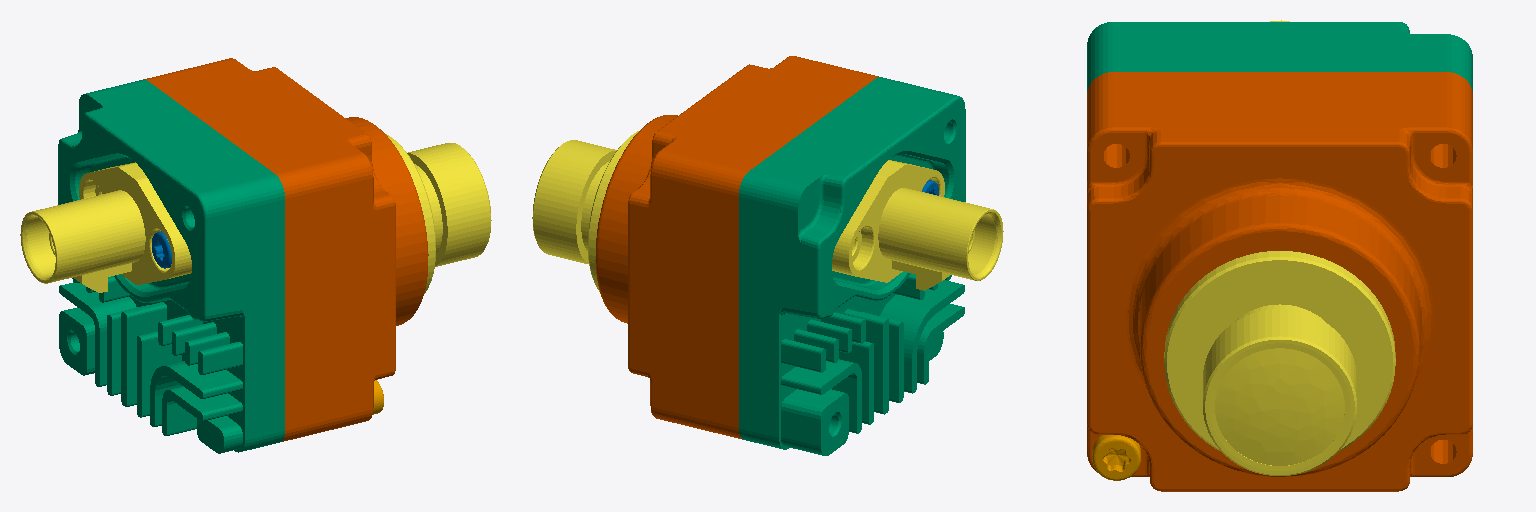
The robot description file, URDF, robot "SG2_AR0233C_5200_G2A_H100F1A":
<?xml version="1.0"?>
<!-- Generated by usd2urdf.py from SG2-AR0233C-5200-G2A-H100F1A.calibrated.acceptance.usd -->
<!-- metersPerUnit=0.01 upAxis=Z -->
<robot name="SG2_AR0233C_5200_G2A_H100F1A">
  <link name="base_link">
  </link>
  <link name="Root">
  </link>
  <link name="SG2_AR0233C_5200_G2A_H100F1A">
  </link>
  <link name="lens">
    <visual>
      <origin xyz="0 0 0" rpy="0 0 0"/>
      <geometry>
        <mesh filename="meshes/Mesh.stl"/>
      </geometry>
    </visual>
    <collision>
      <origin xyz="0 0 0" rpy="0 0 0"/>
      <geometry>
        <mesh filename="meshes/Mesh.stl"/>
      </geometry>
    </collision>
    <inertial>
      <origin xyz="0 0 0" rpy="0 0 0"/>
      <mass value="0.15"/>
      <inertia ixx="0.000810000064" ixy="0" ixz="0" iyy="0.000811431682" iyz="0" izz="0.000811431682"/>
    </inertial>
  </link>
  <link name="SG2_AR0233C_5200_G2A_H100F1A_1">
  </link>
  <link name="top">
    <visual>
      <origin xyz="0 0 0" rpy="0 0 0"/>
      <geometry>
        <mesh filename="meshes/Mesh_1.stl"/>
      </geometry>
    </visual>
    <collision>
      <origin xyz="0 0 0" rpy="0 0 0"/>
      <geometry>
        <mesh filename="meshes/Mesh_1.stl"/>
      </geometry>
    </collision>
    <inertial>
      <origin xyz="0 0 0" rpy="0 0 0"/>
      <mass value="0.15"/>
      <inertia ixx="0.0015966629" ixy="0" ixz="0" iyy="0.00159666335" iyz="0" izz="0.00224999973"/>
    </inertial>
  </link>
  <link name="screw">
    <visual>
      <origin xyz="0 0 0" rpy="0 0 0"/>
      <geometry>
        <mesh filename="meshes/Mesh_2.stl"/>
      </geometry>
    </visual>
    <collision>
      <origin xyz="0 0 0" rpy="0 0 0"/>
      <geometry>
        <mesh filename="meshes/Mesh_2.stl"/>
      </geometry>
    </collision>
    <inertial>
      <origin xyz="0 0 0" rpy="0 0 0"/>
      <mass value="0.15"/>
      <inertia ixx="0.000194591302" ixy="0" ixz="0" iyy="0.000318453528" iyz="0" izz="0.000361783971"/>
    </inertial>
  </link>
  <link name="screw_01">
    <visual>
      <origin xyz="0 0 0" rpy="0 0 0"/>
      <geometry>
        <mesh filename="meshes/Mesh_3.stl"/>
      </geometry>
    </visual>
    <collision>
      <origin xyz="0 0 0" rpy="0 0 0"/>
      <geometry>
        <mesh filename="meshes/Mesh_3.stl"/>
      </geometry>
    </collision>
    <inertial>
      <origin xyz="0 0 0" rpy="0 0 0"/>
      <mass value="0.15"/>
      <inertia ixx="0.000194591302" ixy="0" ixz="0" iyy="0.000318453528" iyz="0" izz="0.000361783971"/>
    </inertial>
  </link>
  <link name="screw_02">
    <visual>
      <origin xyz="0 0 0" rpy="0 0 0"/>
      <geometry>
        <mesh filename="meshes/Mesh_4.stl"/>
      </geometry>
    </visual>
    <collision>
      <origin xyz="0 0 0" rpy="0 0 0"/>
      <geometry>
        <mesh filename="meshes/Mesh_4.stl"/>
      </geometry>
    </collision>
    <inertial>
      <origin xyz="0 0 0" rpy="0 0 0"/>
      <mass value="0.15"/>
      <inertia ixx="0.000194591302" ixy="0" ixz="0" iyy="0.000318453528" iyz="0" izz="0.000361783971"/>
    </inertial>
  </link>
  <link name="screw_03">
    <visual>
      <origin xyz="0 0 0" rpy="0 0 0"/>
      <geometry>
        <mesh filename="meshes/Mesh_5.stl"/>
      </geometry>
    </visual>
    <collision>
      <origin xyz="0 0 0" rpy="0 0 0"/>
      <geometry>
        <mesh filename="meshes/Mesh_5.stl"/>
      </geometry>
    </collision>
    <inertial>
      <origin xyz="0 0 0" rpy="0 0 0"/>
      <mass value="0.15"/>
      <inertia ixx="0.000194591302" ixy="0" ixz="0" iyy="0.000318453528" iyz="0" izz="0.000361783971"/>
    </inertial>
  </link>
  <link name="bottom">
    <visual>
      <origin xyz="0 0 0" rpy="0 0 0"/>
      <geometry>
        <mesh filename="meshes/Mesh_6.stl"/>
      </geometry>
    </visual>
    <collision>
      <origin xyz="0 0 0" rpy="0 0 0"/>
      <geometry>
        <mesh filename="meshes/Mesh_6.stl"/>
      </geometry>
    </collision>
    <inertial>
      <origin xyz="0 0 0" rpy="0 0 0"/>
      <mass value="0.15"/>
      <inertia ixx="0.00125428579" ixy="0" ixz="0" iyy="0.00125428612" iyz="0" izz="0.00224999962"/>
    </inertial>
  </link>
  <link name="fakra">
    <visual>
      <origin xyz="0 0 0" rpy="0 0 0"/>
      <geometry>
        <mesh filename="meshes/Mesh_7.stl"/>
      </geometry>
    </visual>
    <collision>
      <origin xyz="0 0 0" rpy="0 0 0"/>
      <geometry>
        <mesh filename="meshes/Mesh_7.stl"/>
      </geometry>
    </collision>
    <inertial>
      <origin xyz="0 0 0" rpy="0 0 0"/>
      <mass value="0.15"/>
      <inertia ixx="0.000664724523" ixy="0" ixz="0" iyy="0.000589528158" iyz="0" izz="0.000885196429"/>
    </inertial>
  </link>
  <link name="screw_04">
    <visual>
      <origin xyz="0 0 0" rpy="0 0 0"/>
      <geometry>
        <mesh filename="meshes/Mesh_8.stl"/>
      </geometry>
    </visual>
    <collision>
      <origin xyz="0 0 0" rpy="0 0 0"/>
      <geometry>
        <mesh filename="meshes/Mesh_8.stl"/>
      </geometry>
    </collision>
    <inertial>
      <origin xyz="0 0 0" rpy="0 0 0"/>
      <mass value="0.15"/>
      <inertia ixx="5.5683573e-05" ixy="0" ixz="0" iyy="6.83346213e-05" iyz="0" izz="7.48162515e-05"/>
    </inertial>
  </link>
  <link name="screw_05">
    <visual>
      <origin xyz="0 0 0" rpy="0 0 0"/>
      <geometry>
        <mesh filename="meshes/Mesh_9.stl"/>
      </geometry>
    </visual>
    <collision>
      <origin xyz="0 0 0" rpy="0 0 0"/>
      <geometry>
        <mesh filename="meshes/Mesh_9.stl"/>
      </geometry>
    </collision>
    <inertial>
      <origin xyz="0 0 0" rpy="0 0 0"/>
      <mass value="0.15"/>
      <inertia ixx="5.5683573e-05" ixy="0" ixz="0" iyy="6.83346213e-05" iyz="0" izz="7.48162515e-05"/>
    </inertial>
  </link>
  <link name="sg2_ar0233c_5200_g2a_h100f1a_lens">
  </link>
  <joint name="base_link_to_Root" type="fixed">
    <parent link="base_link"/>
    <child link="Root"/>
    <origin xyz="0 0 0" rpy="0 0 0"/>
  </joint>
  <joint name="Root_to_SG2_AR0233C_5200_G2A_H100F1A" type="fixed">
    <parent link="Root"/>
    <child link="SG2_AR0233C_5200_G2A_H100F1A"/>
    <origin xyz="0 0 0.285989876" rpy="0 1.57079633 0"/>
  </joint>
  <joint name="SG2_AR0233C_5200_G2A_H100F1A_to_lens" type="fixed">
    <parent link="SG2_AR0233C_5200_G2A_H100F1A"/>
    <child link="lens"/>
    <origin xyz="0.152359832 0.152359847 0.0718645712" rpy="-1.57079633 1.57079633 0"/>
  </joint>
  <joint name="lens_to_SG2_AR0233C_5200_G2A_H100F1A_1" type="fixed">
    <parent link="lens"/>
    <child link="SG2_AR0233C_5200_G2A_H100F1A_1"/>
    <origin xyz="0 0 0" rpy="0 1.57079633 0"/>
  </joint>
  <joint name="SG2_AR0233C_5200_G2A_H100F1A_to_top" type="fixed">
    <parent link="SG2_AR0233C_5200_G2A_H100F1A"/>
    <child link="top"/>
    <origin xyz="0.152359832 1.03235985 -0.145" rpy="0 0 -4.60930648e-11"/>
  </joint>
  <joint name="SG2_AR0233C_5200_G2A_H100F1A_to_screw" type="fixed">
    <parent link="SG2_AR0233C_5200_G2A_H100F1A"/>
    <child link="screw"/>
    <origin xyz="3.88953013 -13.759492 3.37720256" rpy="0.959110919 0.941486389 2.62574582"/>
  </joint>
  <joint name="SG2_AR0233C_5200_G2A_H100F1A_to_screw_01" type="fixed">
    <parent link="SG2_AR0233C_5200_G2A_H100F1A"/>
    <child link="screw_01"/>
    <origin xyz="4.14353013 -13.759492 3.37720256" rpy="0.959110919 0.941486389 2.62574582"/>
  </joint>
  <joint name="SG2_AR0233C_5200_G2A_H100F1A_to_screw_02" type="fixed">
    <parent link="SG2_AR0233C_5200_G2A_H100F1A"/>
    <child link="screw_02"/>
    <origin xyz="4.14353013 -14.013492 3.37720256" rpy="0.959110919 0.941486389 2.62574582"/>
  </joint>
  <joint name="SG2_AR0233C_5200_G2A_H100F1A_to_screw_03" type="fixed">
    <parent link="SG2_AR0233C_5200_G2A_H100F1A"/>
    <child link="screw_03"/>
    <origin xyz="3.88953013 -14.013492 3.37720256" rpy="0.959110919 0.941486389 2.62574582"/>
  </joint>
  <joint name="SG2_AR0233C_5200_G2A_H100F1A_to_bottom" type="fixed">
    <parent link="SG2_AR0233C_5200_G2A_H100F1A"/>
    <child link="bottom"/>
    <origin xyz="0.152359832 1.03235985 -0.145" rpy="0 0 0"/>
  </joint>
  <joint name="SG2_AR0233C_5200_G2A_H100F1A_to_fakra" type="fixed">
    <parent link="SG2_AR0233C_5200_G2A_H100F1A"/>
    <child link="fakra"/>
    <origin xyz="0.0901598111 0.152359847 -0.2492" rpy="4.05858743e-08 1.57079633 0"/>
  </joint>
  <joint name="SG2_AR0233C_5200_G2A_H100F1A_to_screw_04" type="fixed">
    <parent link="SG2_AR0233C_5200_G2A_H100F1A"/>
    <child link="screw_04"/>
    <origin xyz="-3.77401047 -13.954492 -3.80940256" rpy="-2.18248173 -0.941486389 0.515846833"/>
  </joint>
  <joint name="SG2_AR0233C_5200_G2A_H100F1A_to_screw_05" type="fixed">
    <parent link="SG2_AR0233C_5200_G2A_H100F1A"/>
    <child link="screw_05"/>
    <origin xyz="-3.77401047 -13.818492 -3.80940256" rpy="-2.18248173 -0.941486389 0.515846833"/>
  </joint>
  <joint name="SG2_AR0233C_5200_G2A_H100F1A_to_sg2_ar0233c_5200_g2a_h100f1a_lens" type="fixed">
    <parent link="SG2_AR0233C_5200_G2A_H100F1A"/>
    <child link="sg2_ar0233c_5200_g2a_h100f1a_lens"/>
    <origin xyz="0.152359832 0.152359847 0.0718645712" rpy="0 0 -1.57079633"/>
  </joint>
</robot>

--- What the picture shows (computed from the rendered views, not written in the file) ---
3 views of the same robot in one strip: view 1: azimuth 30°, elevation 25°; view 2: azimuth 150°, elevation 25°; view 3: azimuth 270°, elevation 25° (orthographic).
Robot: SG2_AR0233C_5200_G2A_H100F1A — 15 links, 14 joints (14 fixed); root link base_link; default pose: all joints at 0.
Visible links, largest first — view 1: bottom, top, fakra, lens, screw_04; view 2: bottom, top, fakra, lens; view 3: top, lens, bottom, screw_02.
Link boxes in pixels (bbox=[...]): bottom: bbox=[58, 79, 284, 453]; top: bbox=[145, 58, 428, 441]; fakra: bbox=[20, 162, 191, 292]; lens: bbox=[386, 134, 491, 293]; screw_04: bbox=[152, 231, 171, 268]; bottom: bbox=[739, 77, 965, 455]; top: bbox=[595, 56, 878, 439]; fakra: bbox=[832, 160, 1003, 290]; lens: bbox=[532, 131, 638, 291]; top: bbox=[1087, 72, 1472, 491]; lens: bbox=[1164, 251, 1395, 475]; bottom: bbox=[1087, 22, 1472, 91]; screw_02: bbox=[1092, 435, 1140, 480].
Size in the robot's own frame: 0.5011 by 0.3 by 0.3 metres.
6 mesh visuals loaded from 10 distinct referenced files (6 binary STL); not drawn: 4 (reference not matched to a file when rendering).
